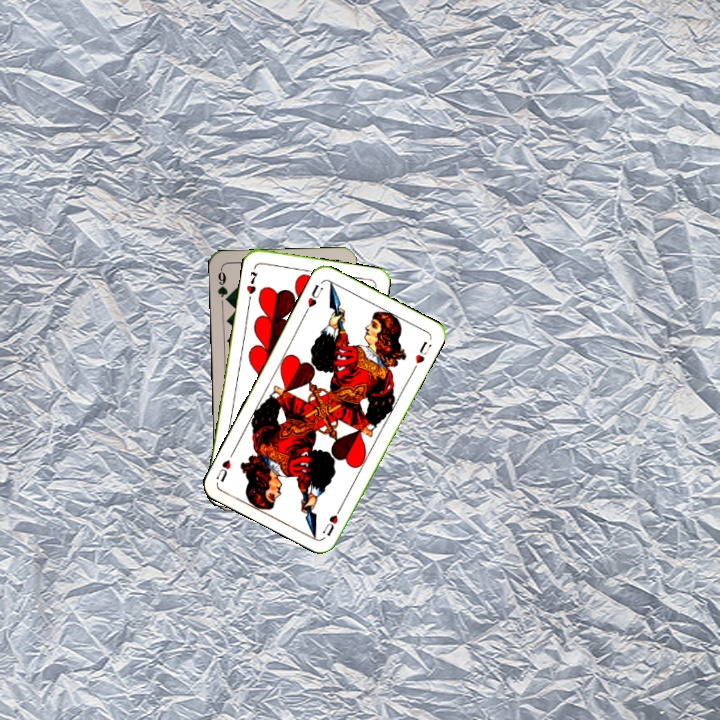G9: (213, 265, 232, 306)
H7: (242, 268, 260, 297)
HU: (319, 501, 345, 539), (301, 280, 325, 316)
